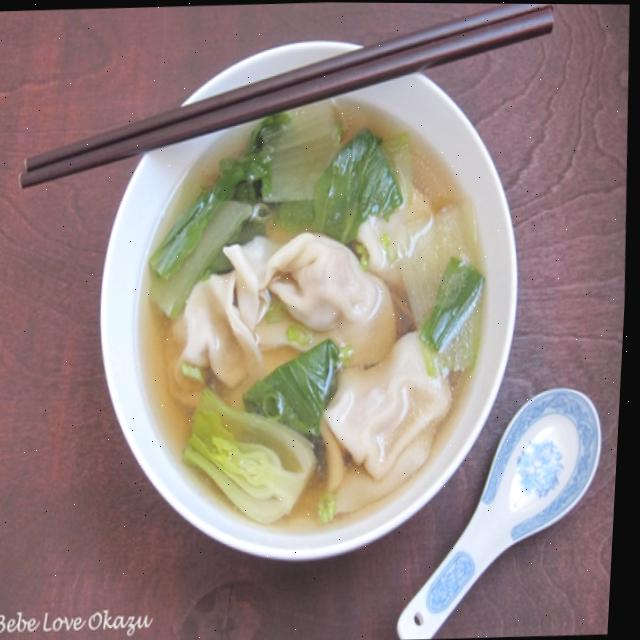汤锅炖物: (105, 46, 525, 559)
